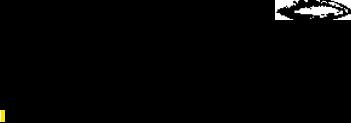Mouth: (277, 0, 351, 22)
